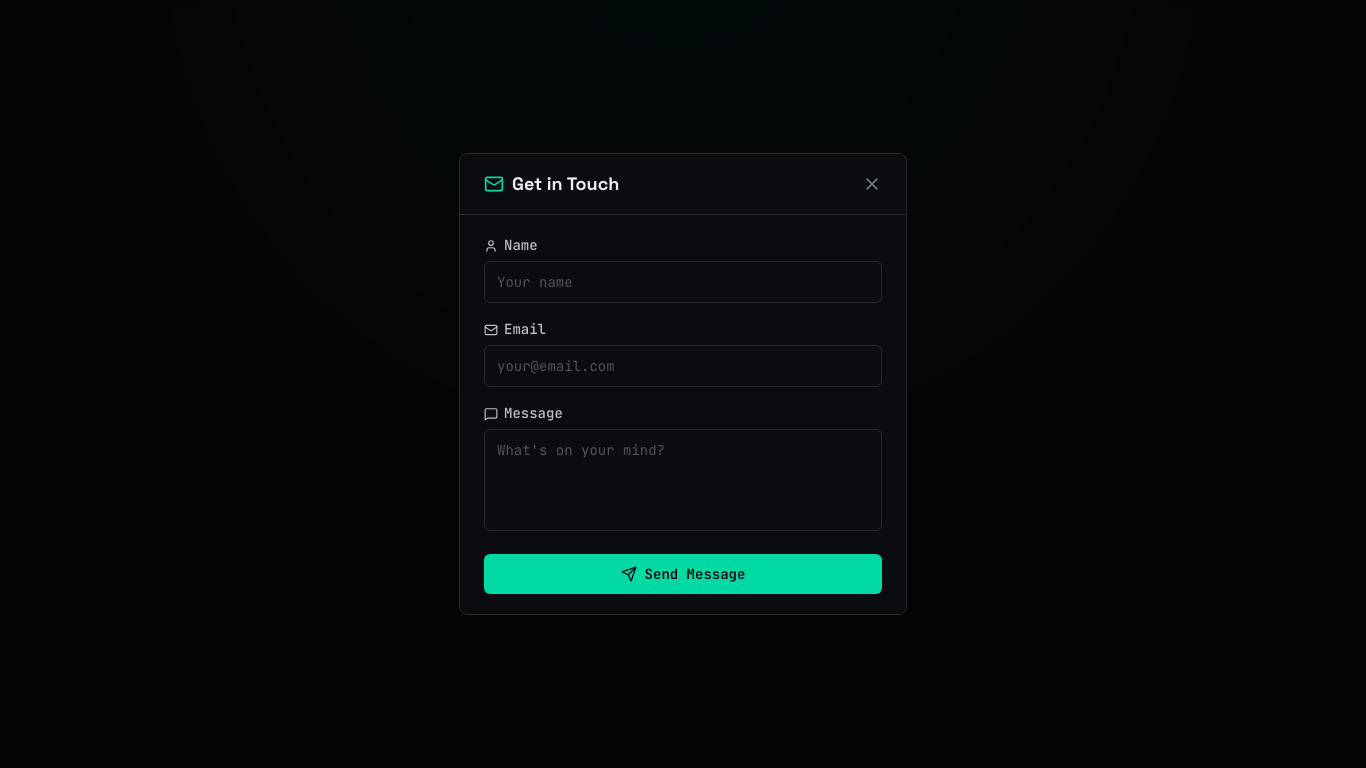
Test case: ContactModal › shows an error state when submission fails
Type "Jane Doe" into the field with placeholder "Your name" at point(683, 282), box top-left (484, 261), bottom-right (882, 303)
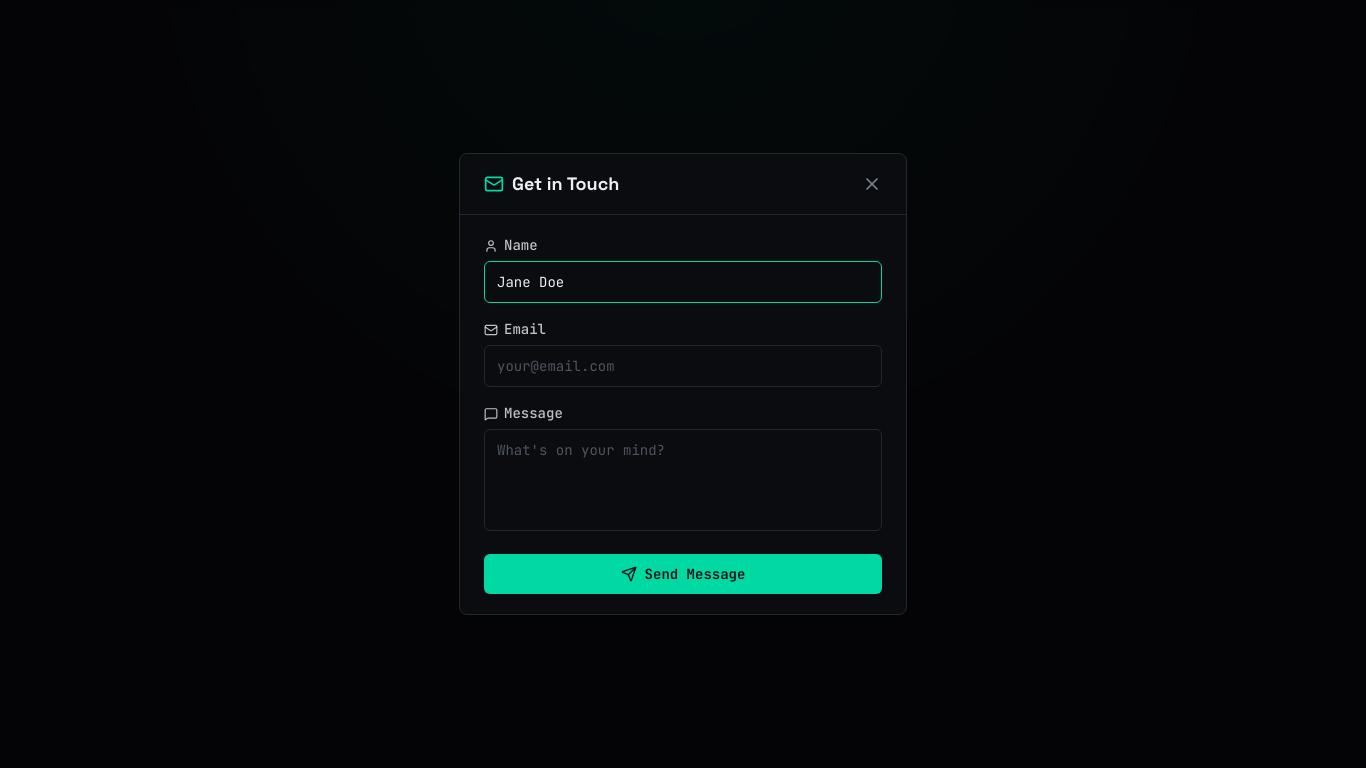
Type "jane@example.com" into the field with placeholder "your@email.com" at point(683, 366), box top-left (484, 345), bottom-right (882, 387)
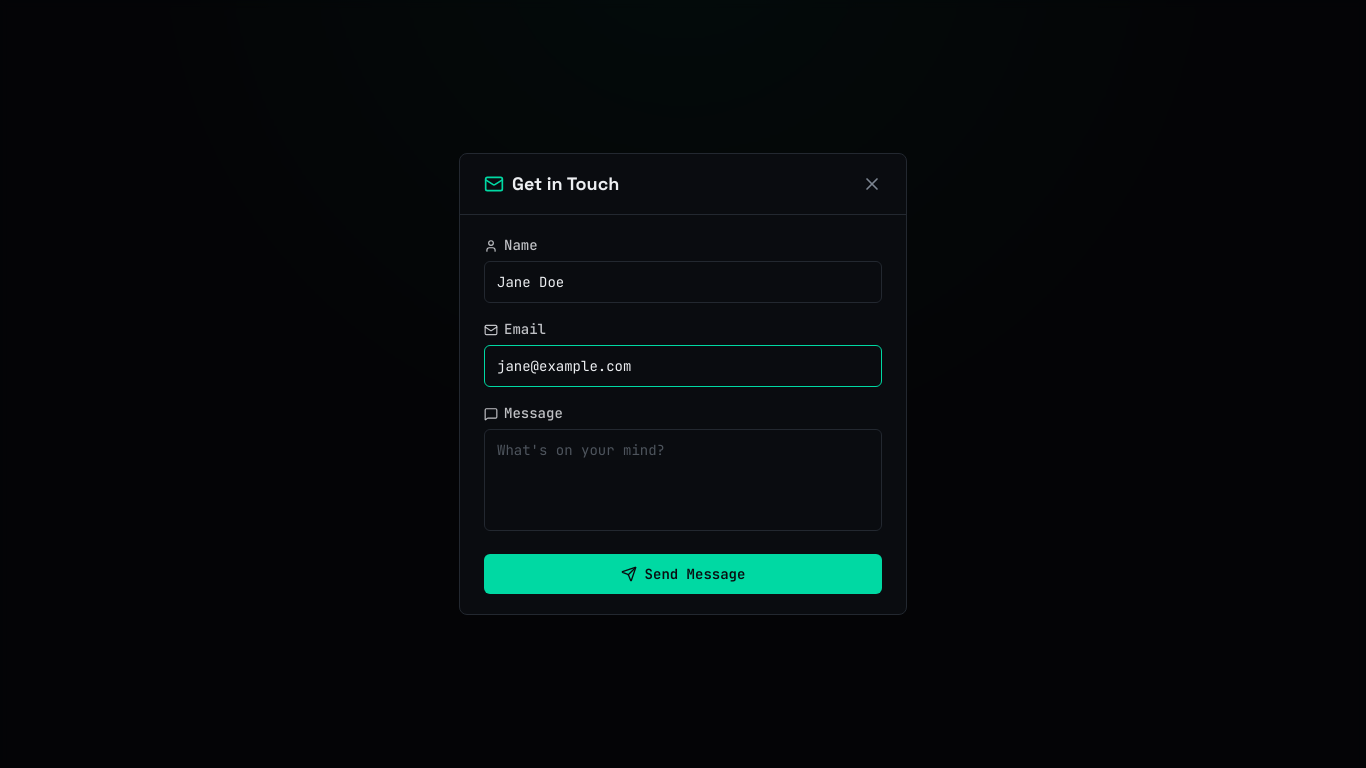
Type "Hello there" into the text box with placeholder "What's on your mind?" at point(683, 480), box top-left (484, 429), bottom-right (882, 531)
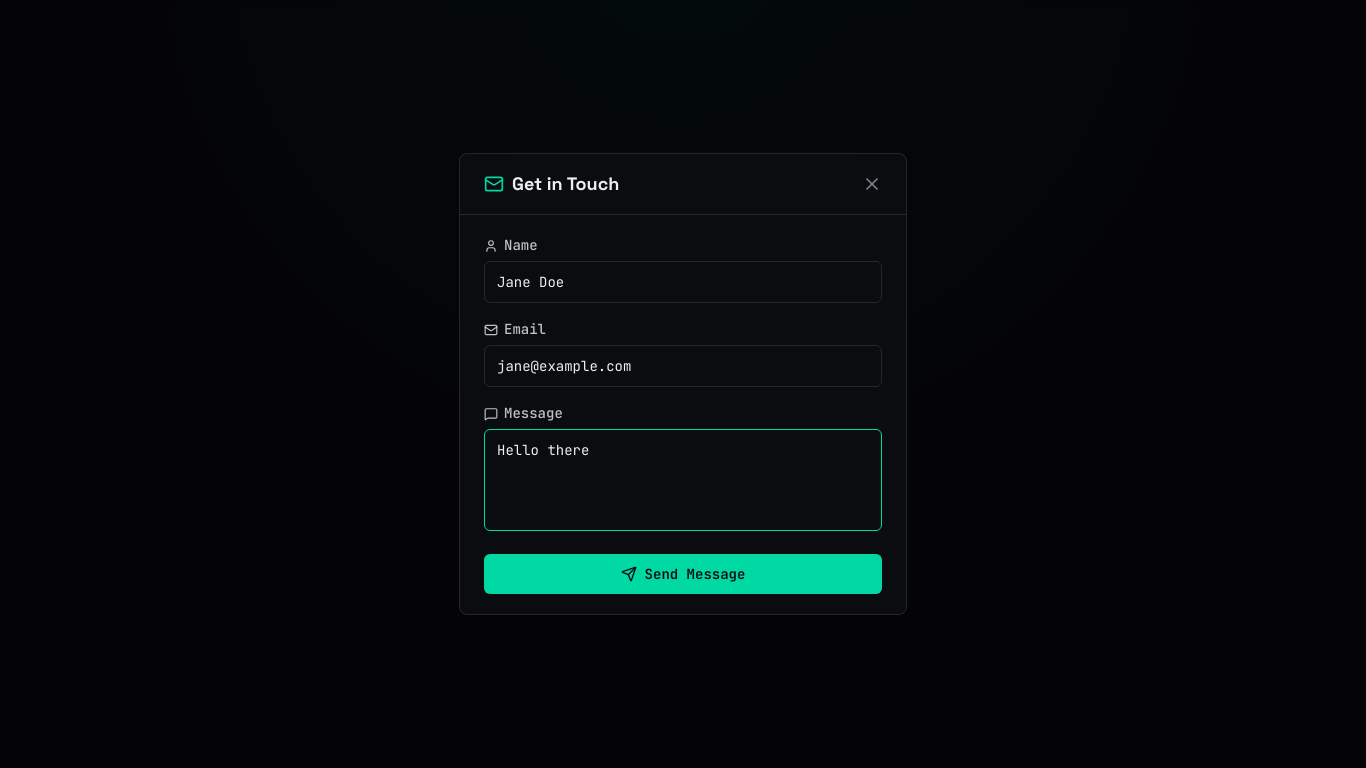
Click the button "Send Message" at point(683, 574), box top-left (484, 554), bottom-right (882, 594)
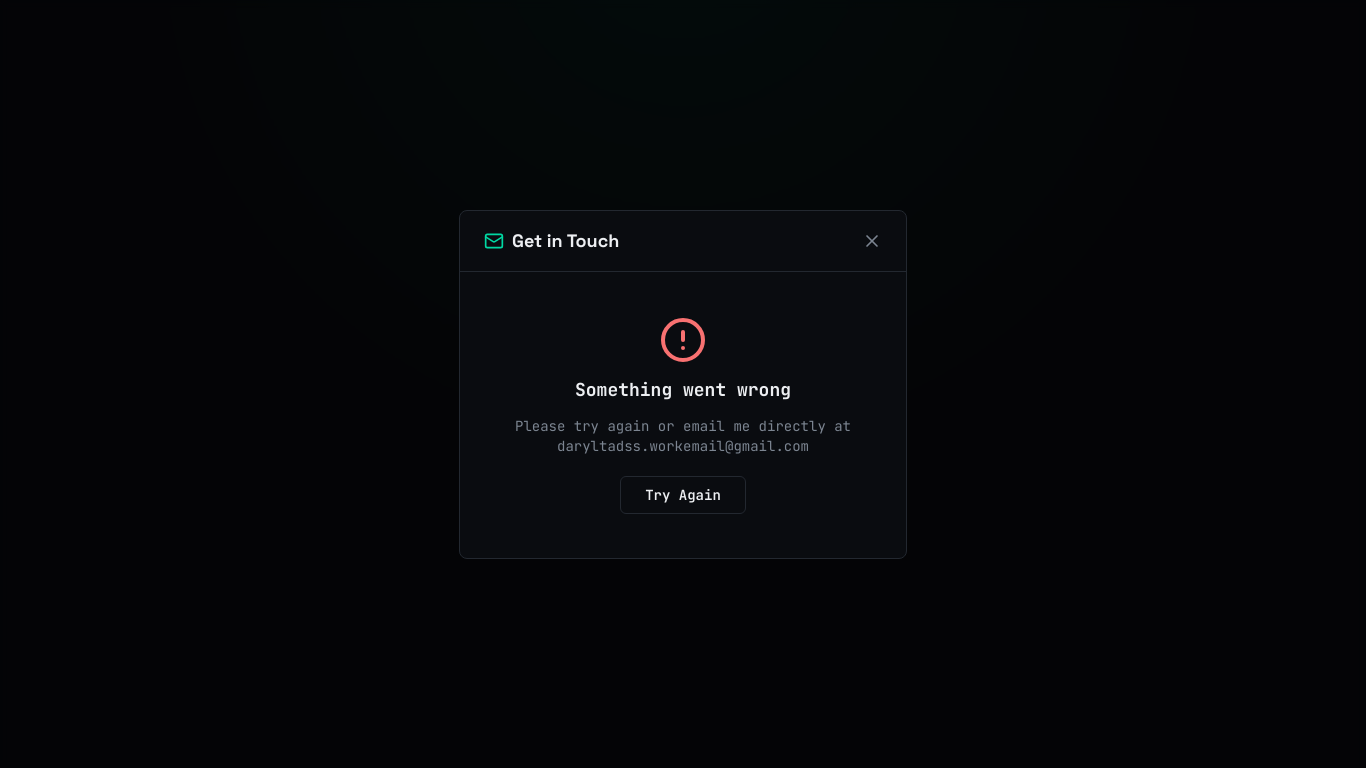
Expected: the heading "Something went wrong" is shown, top-left (575, 376), bottom-right (791, 404)
